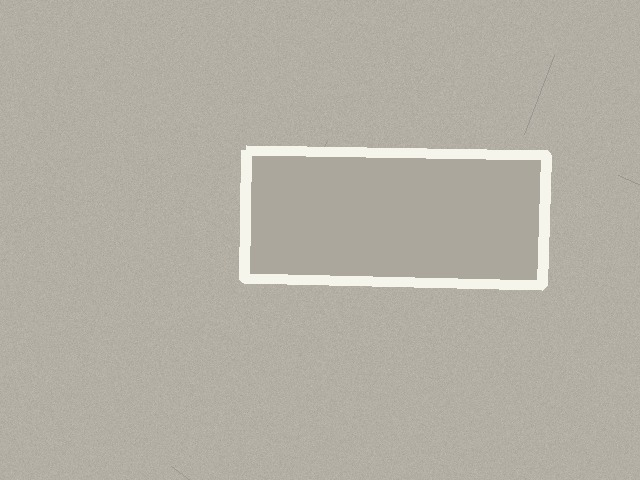parking_area: (244, 150, 546, 285)
